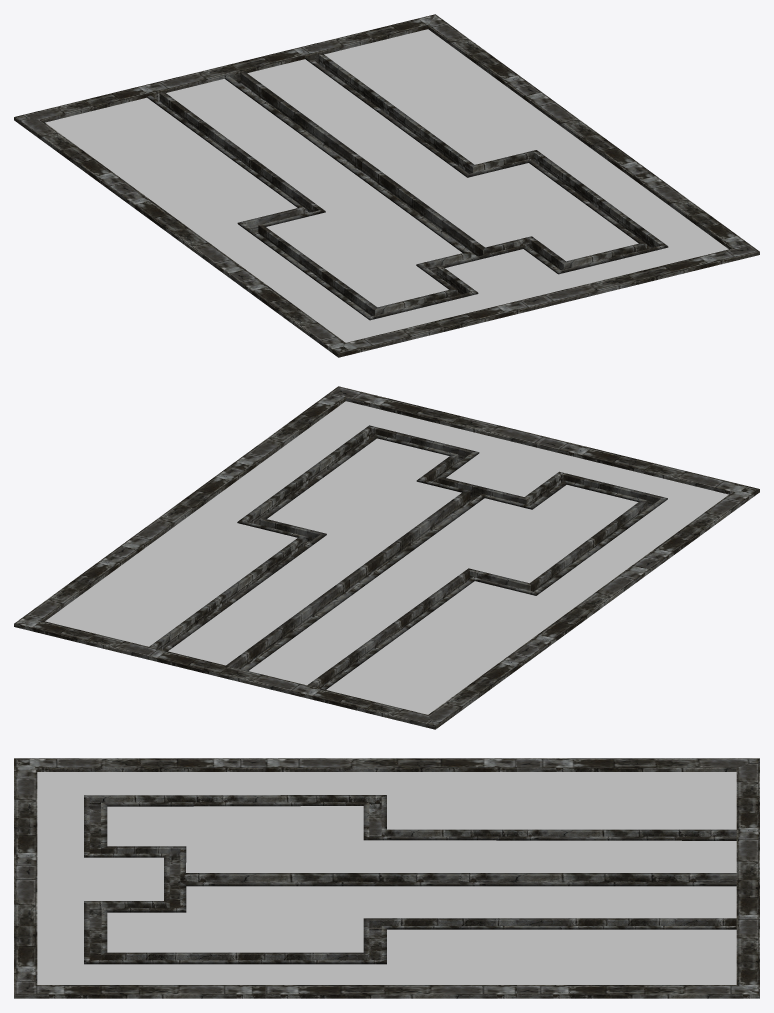
The model's file is fountain_floor.dae.
3 renders of one model, top to bottom at view 1: azimuth 30°, elevation 25°; view 2: azimuth 150°, elevation 25°; view 3: azimuth 270°, elevation 25°, orthographic. The views are drawn at different scales.
Visible parts, largest first — view 1: polySurface17, polySurface10; view 2: polySurface17, polySurface10; view 3: polySurface17, polySurface10.
Part boxes in pixels (x1,y1,x2,y2): polySurface17: [45, 29, 728, 342]; polySurface10: [14, 14, 759, 357]; polySurface17: [45, 401, 728, 714]; polySurface10: [14, 386, 759, 729]; polySurface17: [37, 772, 736, 984]; polySurface10: [14, 758, 759, 998].
Size of the model in its own units: 6 by 0.1574 by 8.
